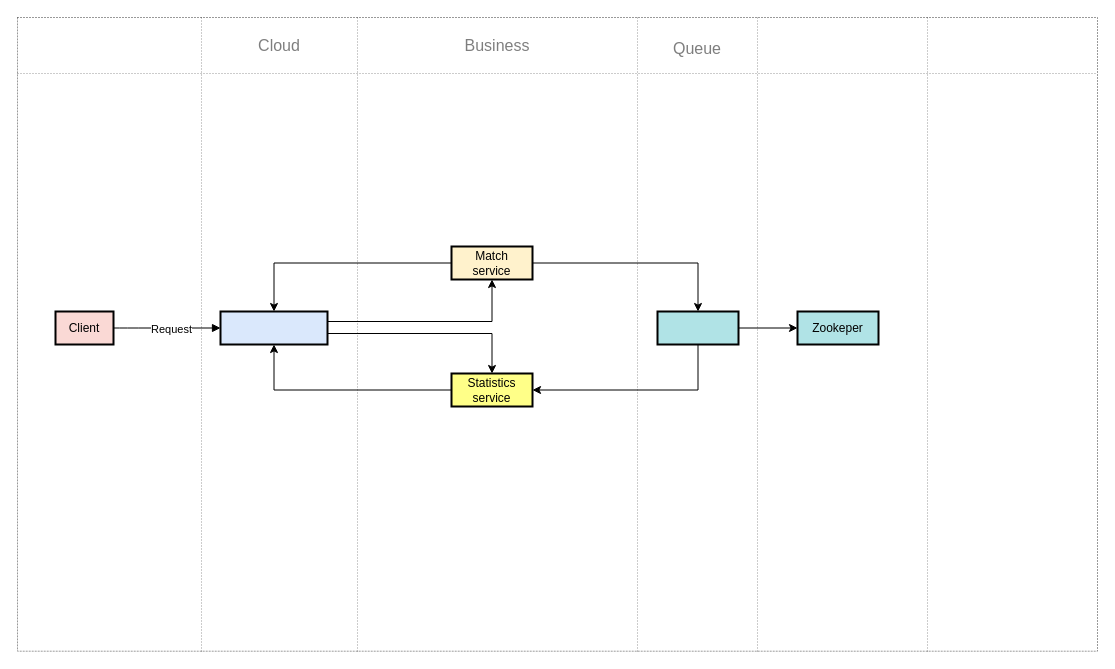
Some shapes in this 1115 by 669 pixel diagram are drawn without their labels. Here are the shapes that lost their labels. From the top down, the centre of each, then its label:
pixel 273 327: Service Discovery
pixel 697 327: Kafka
